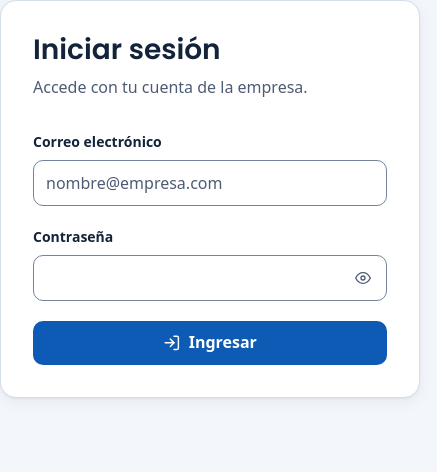
Test: explains empty fields without calling the API
Click the button "Ingresar": click(210, 343) [33,321,387,365]
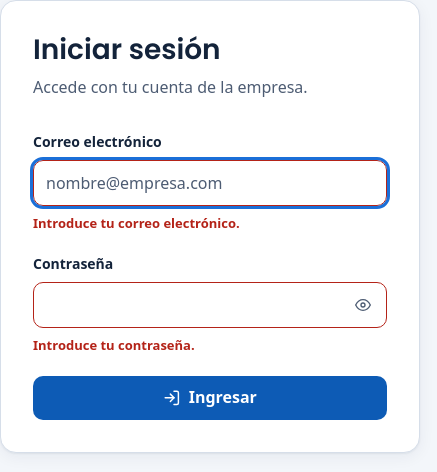
Check: the text "Introduce tu correo electrónico." is shown, box [33,214,240,232]
Check: the text "Introduce tu contraseña." is shown, box [33,336,195,354]
